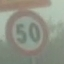limite 50: (5, 9, 51, 56)
